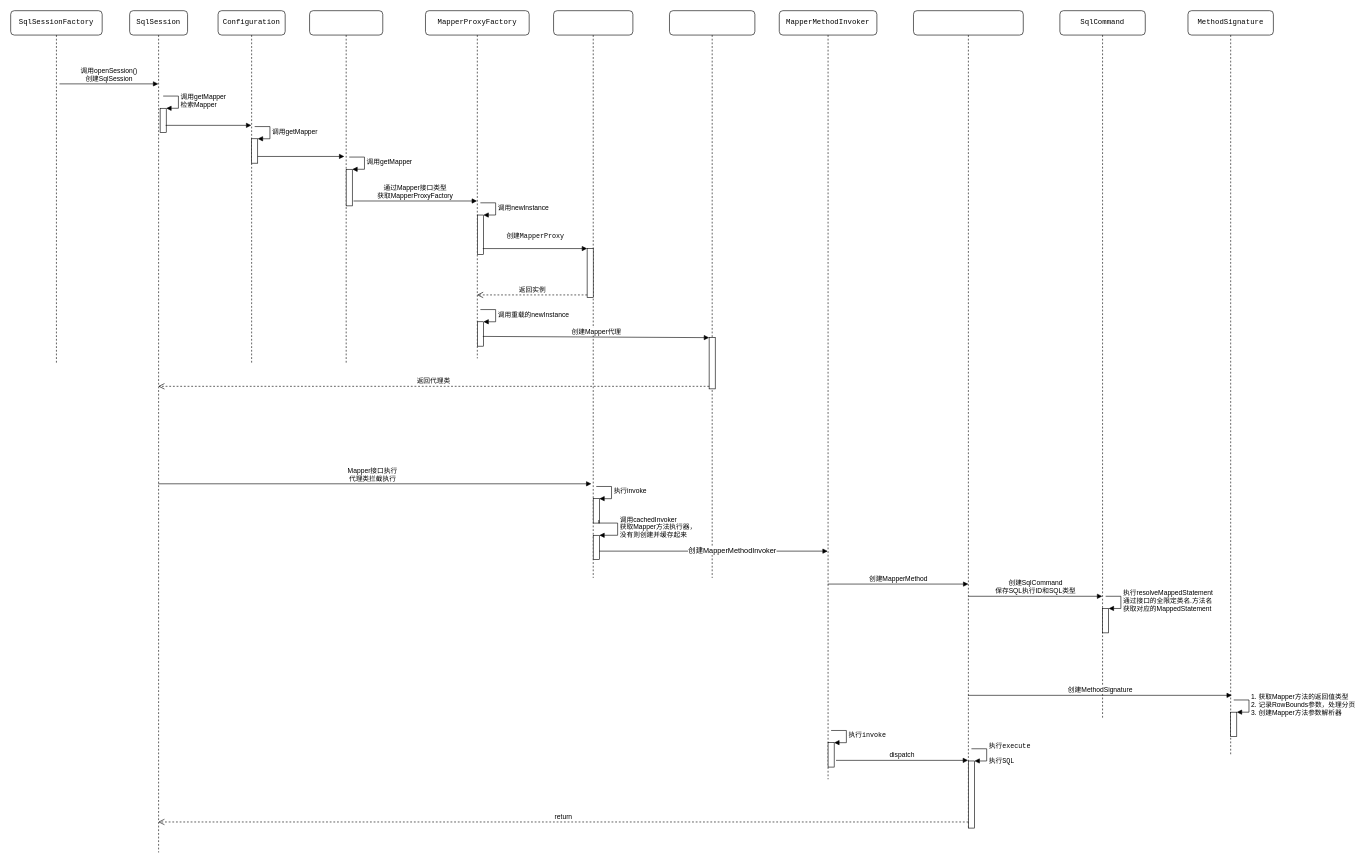
Image size: 1366x863. Some labels were removed from this diagram. The shapes that lost their labels are listed below. From the top down, each one's box as (x1, y1, x2, y2) in pixels, then its label:
(309, 10, 383, 364): MapperRegistry
(553, 10, 633, 578): MapperProxy
(669, 10, 755, 578): JDK代理
(913, 10, 1023, 828): MapperMethod
